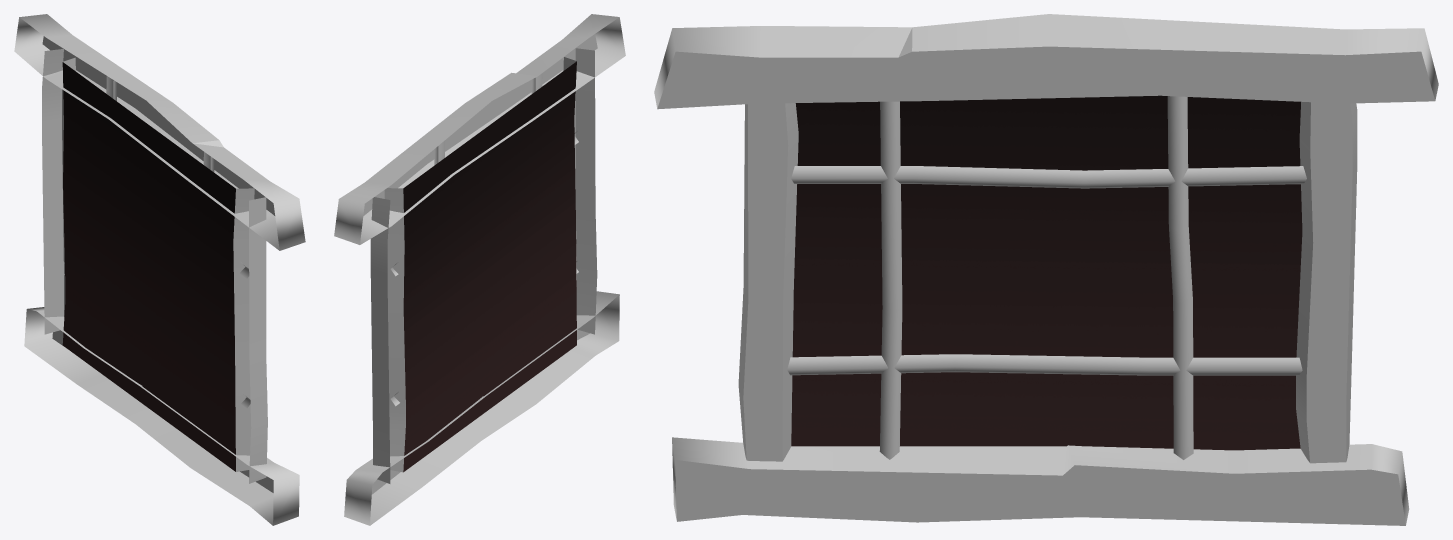
File: lower_city_window_09_lattice.fbx
3 views of the same model, side by side, from view 1: azimuth 30°, elevation 25°; view 2: azimuth 150°, elevation 25°; view 3: azimuth 270°, elevation 25° (orthographic). The views are drawn at different scales.
Parts seen in each view (by area): view 1: lower_city_window_09_lattice; view 2: lower_city_window_09_lattice; view 3: lower_city_window_09_lattice.
Boxes of the visible parts, x1,y1,x2,y2 form: lower_city_window_09_lattice: (14,14,305,525); lower_city_window_09_lattice: (334,14,625,525); lower_city_window_09_lattice: (654,14,1438,525).
Size of the model in its own units: 0.095 by 1.13 by 1.62.
